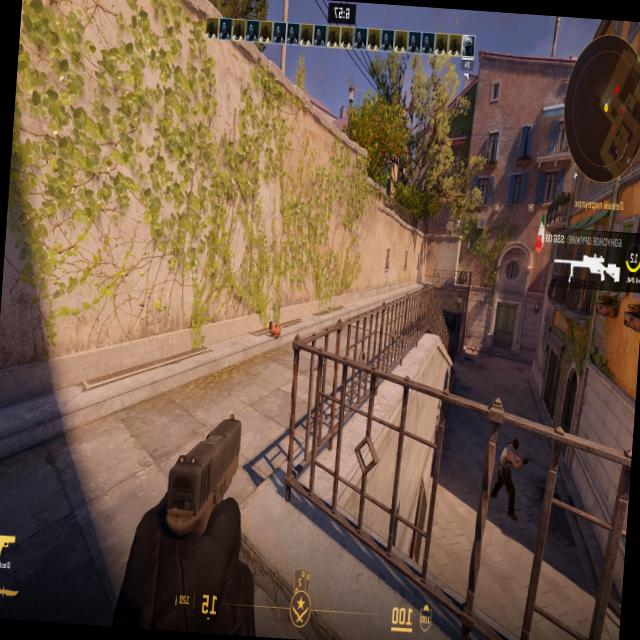T: (496, 438, 514, 499)
T_heat: (510, 442, 516, 457)
